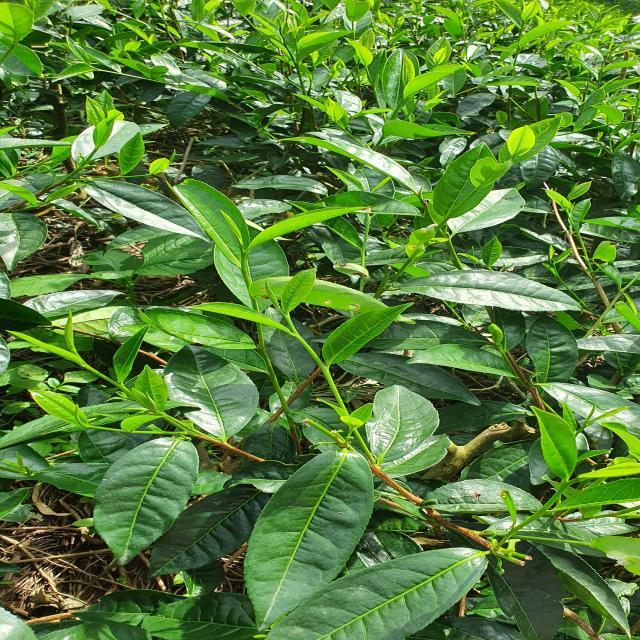Stem: (241, 253, 247, 261), (286, 317, 292, 324), (562, 482, 568, 487)
